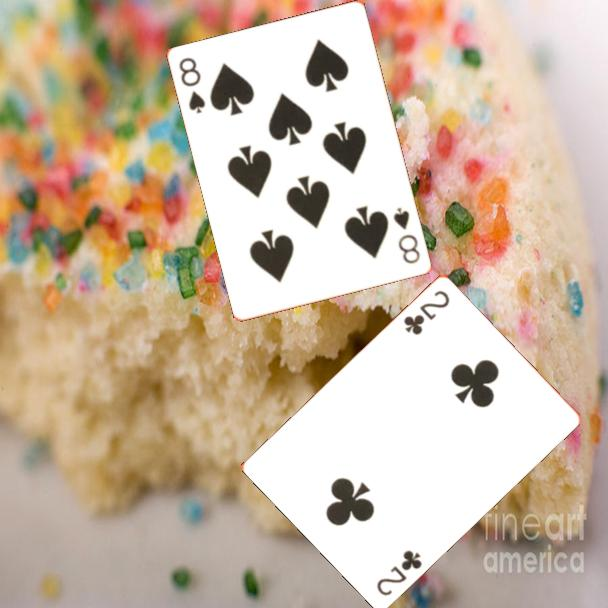c02: (400, 286, 452, 338), (373, 546, 425, 598)
s08: (390, 204, 423, 267), (176, 54, 208, 117)
